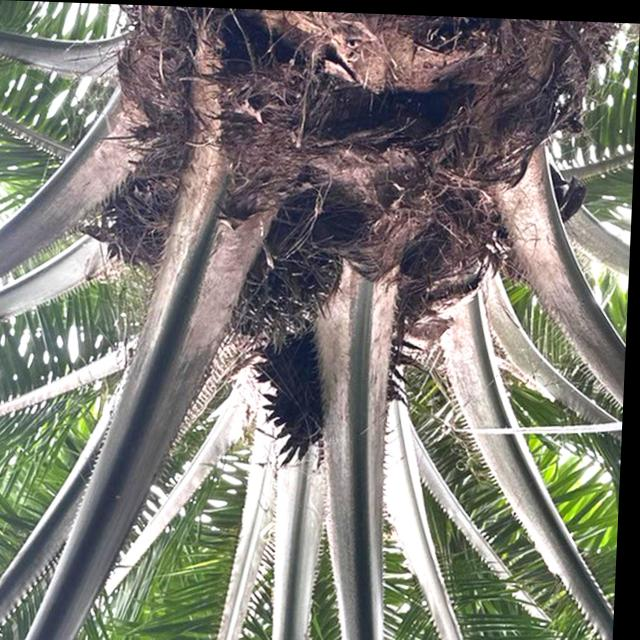unripe: (218, 214, 361, 344)
